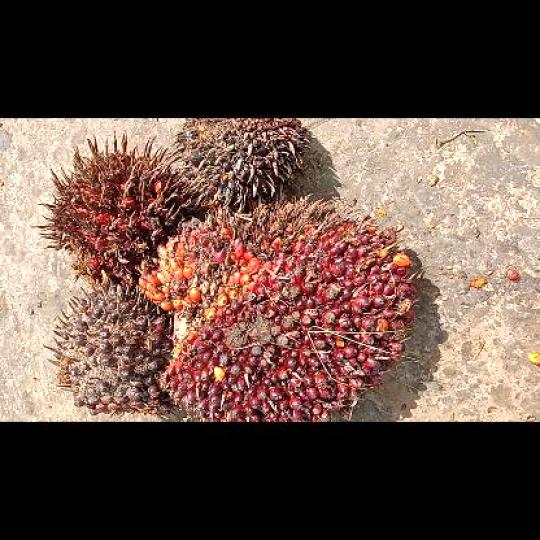kurang masak: (45, 285, 170, 413)
masak: (138, 197, 418, 421)
terlalu masak: (34, 129, 192, 281)
